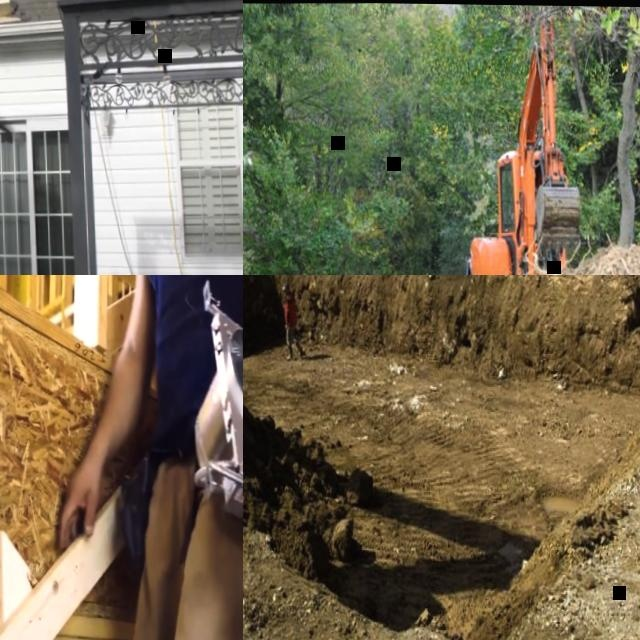Hardhat: (282, 282, 288, 288)
NO-Safety Vest: (142, 275, 243, 445), (283, 295, 297, 326)
Person: (47, 275, 243, 640), (280, 280, 304, 359)
machinery: (460, 11, 585, 275)
